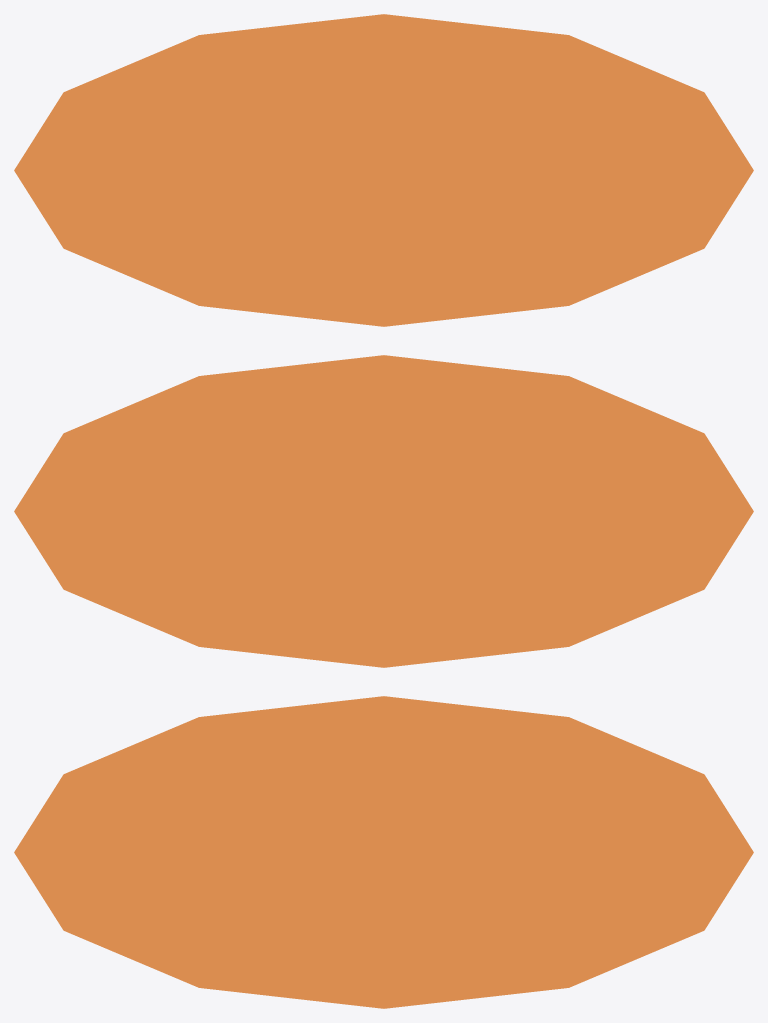
3 renders of one model, top to bottom at view 1: azimuth 30°, elevation 25°; view 2: azimuth 150°, elevation 25°; view 3: azimuth 270°, elevation 25°, orthographic.
Parts seen in each view (by area): view 1: cone; view 2: cone; view 3: cone.
Boxes of the visible parts, x1=… form: cone: x1=14, y1=14, x2=753, y2=326; cone: x1=14, y1=355, x2=753, y2=667; cone: x1=14, y1=696, x2=753, y2=1008.
Bounding box in the file's own units: 0.44 × 0 × 0.44.
